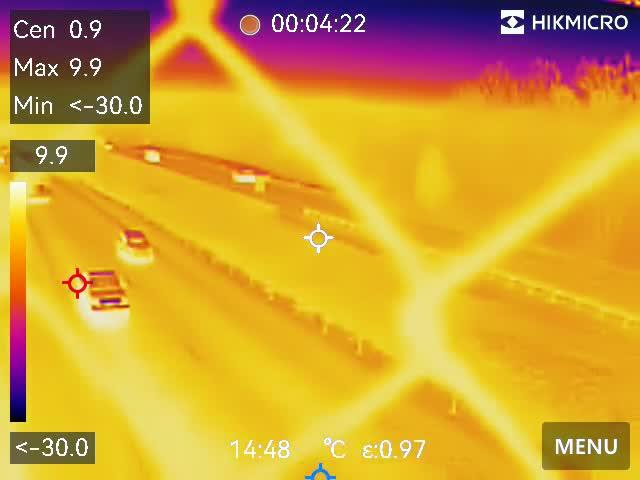vehicle: (77, 260, 136, 316), (120, 222, 155, 263)
